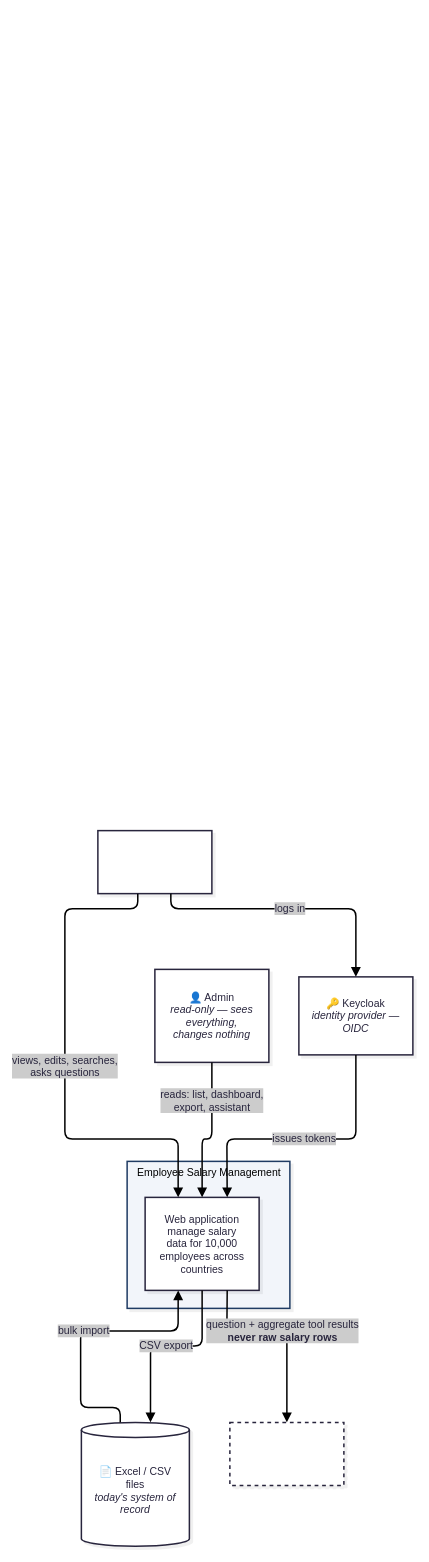
The diagram is 429 pixels wide and 1562 high, and some of its shapes have lost their labels. Here are the shapes that lost their labels. From the top down, the centre of each, then its label:
At (x=156, y=863): "👤 HR Manager the only persona".
At (x=288, y=1455): "☁️ Groq API LLM — chatbot reasoning".
